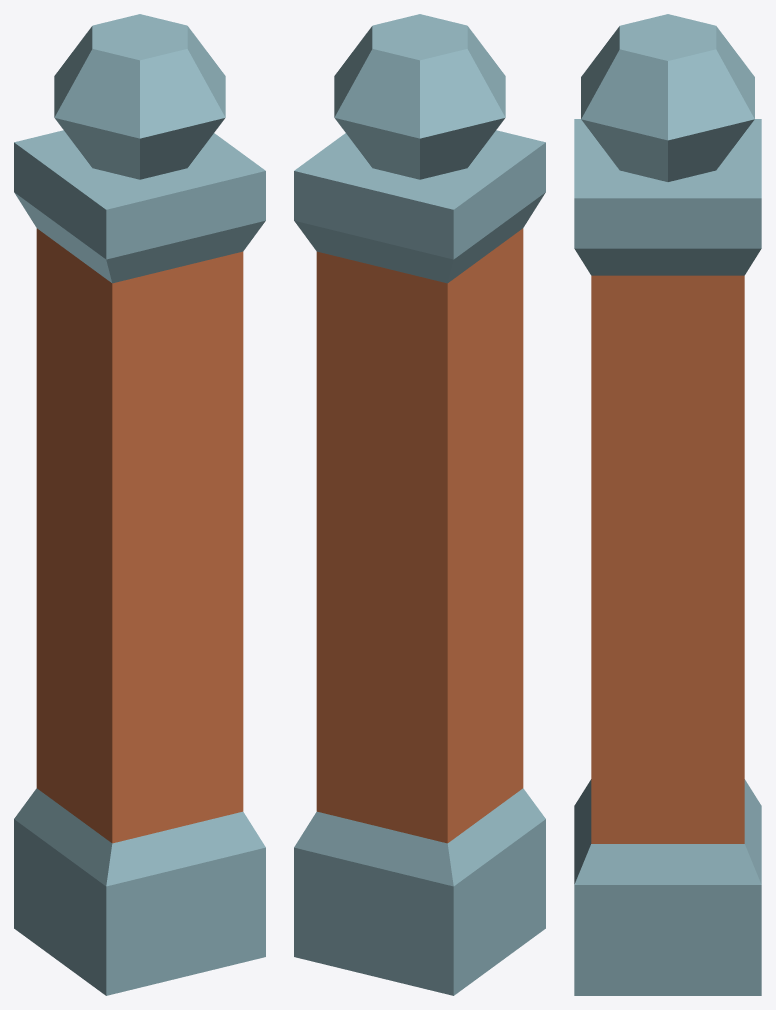
The model's file is pillarLarge.fbx.
3 views of the same model, side by side, from view 1: azimuth 30°, elevation 25°; view 2: azimuth 150°, elevation 25°; view 3: azimuth 270°, elevation 25° (orthographic).
Parts seen in each view (by area): view 1: pillarLarge; view 2: pillarLarge; view 3: pillarLarge.
Boxes of the visible parts, box(x1,y1,x2,y2) form: pillarLarge: box(14, 14, 265, 995); pillarLarge: box(294, 14, 545, 995); pillarLarge: box(574, 14, 761, 995).
Size of the model in its own units: 1.8 by 9.1 by 1.68.
